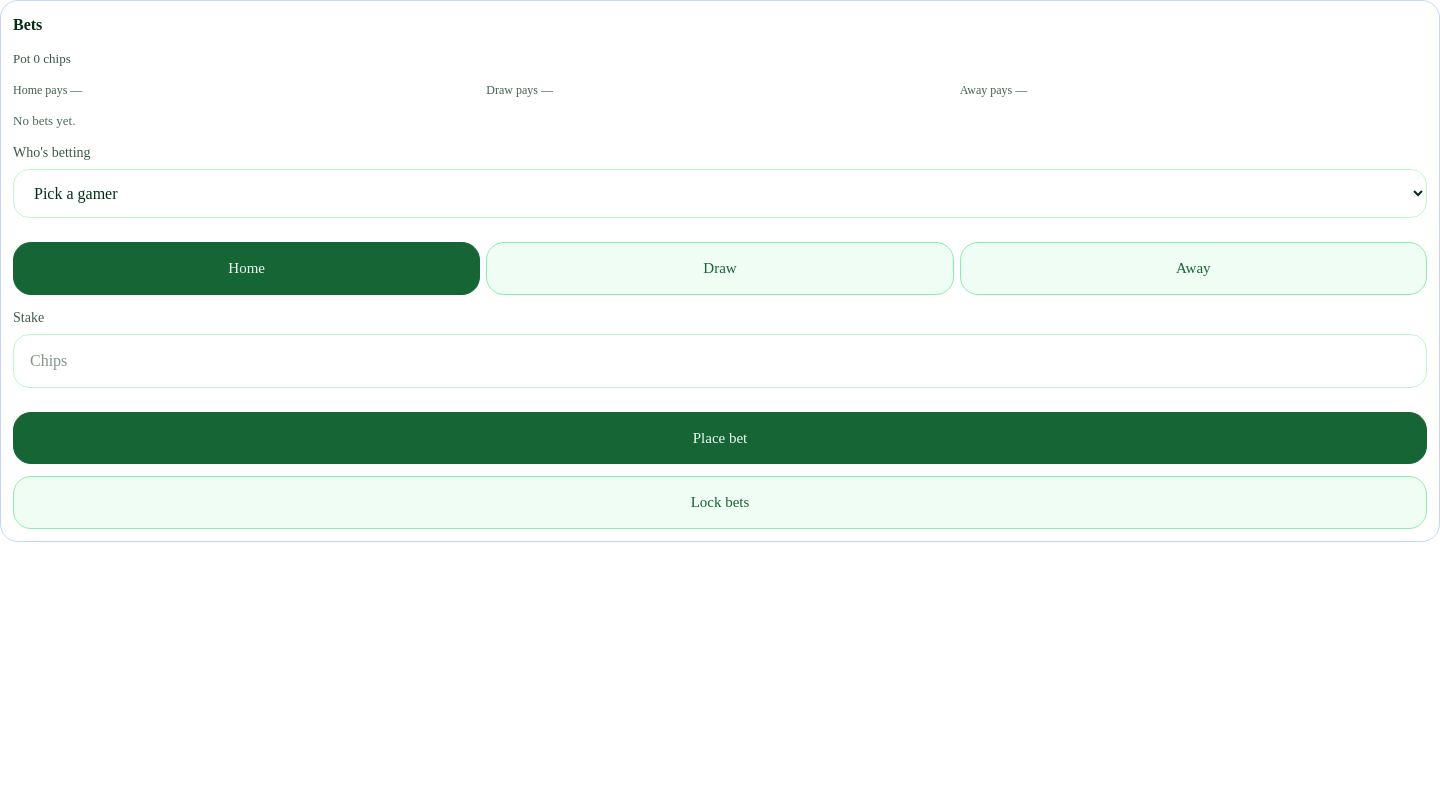
Test: BetsPanel › asks before placing a stake far larger than the game has seen
Select "Cy" in the dropdown labelled "Who's betting" at (720, 194), box x1=13 y1=169 x2=1427 y2=218
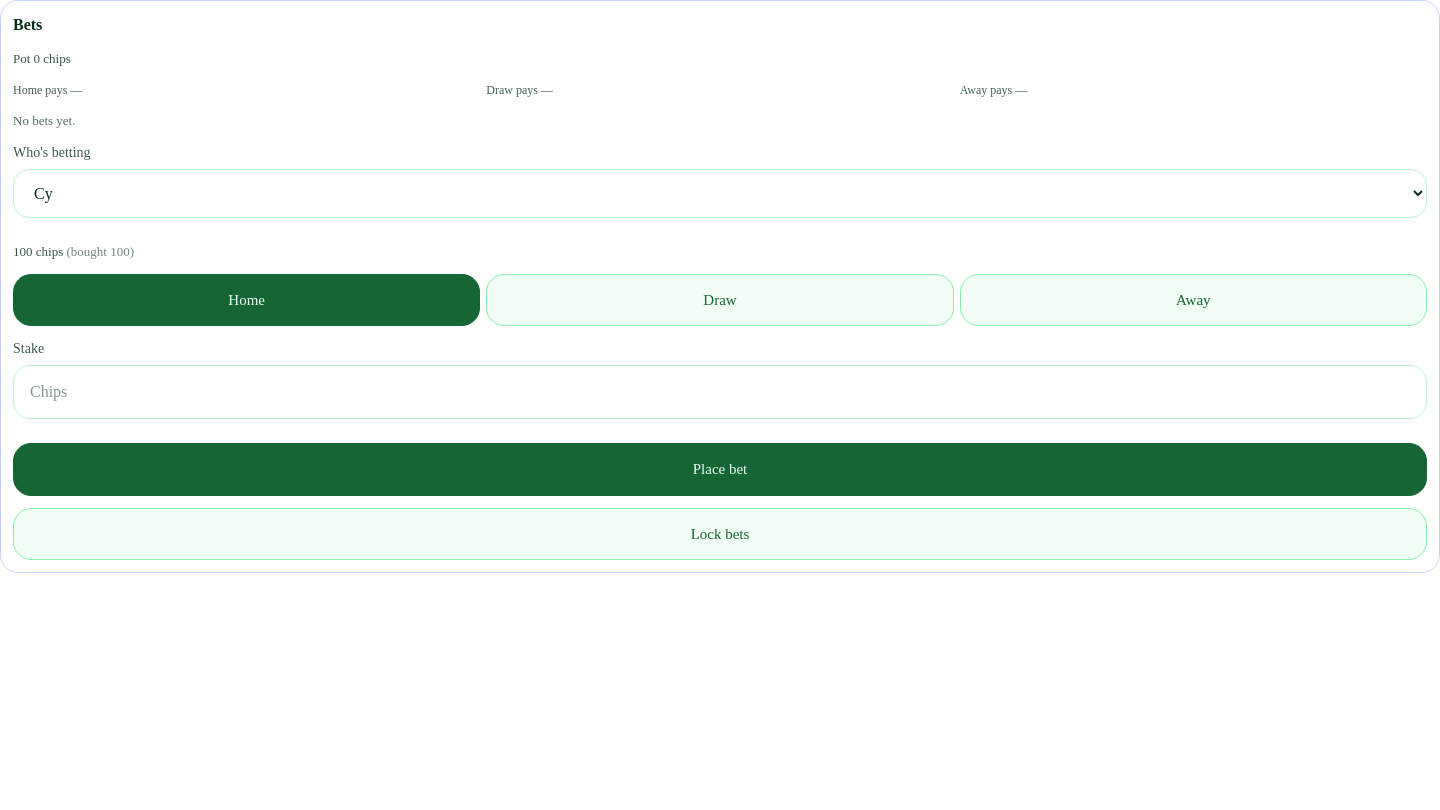
Click the button "Draw" at (720, 300), box x1=486 y1=274 x2=954 y2=326
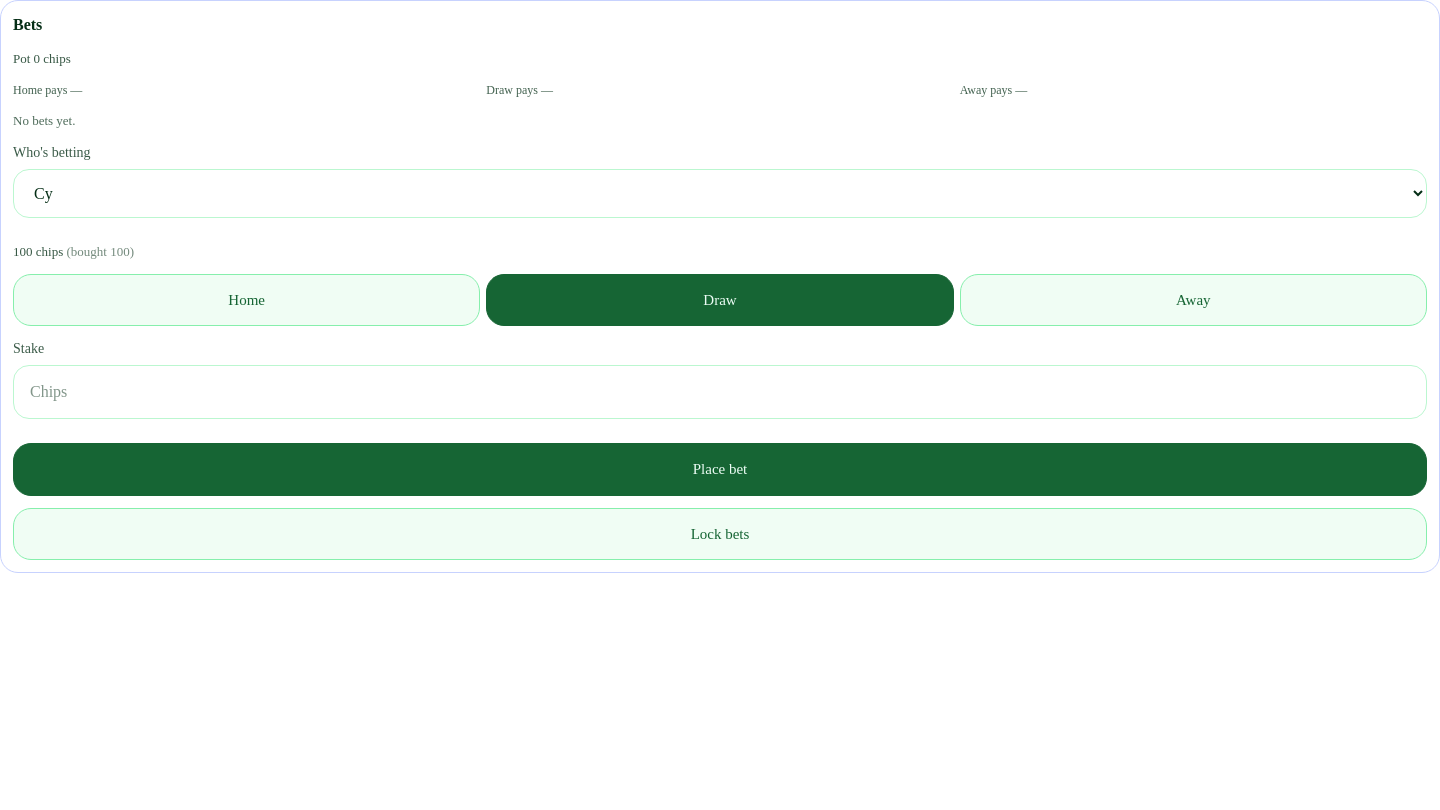
Type "5000" into the field labelled "Stake" at (720, 392), box x1=13 y1=365 x2=1427 y2=419
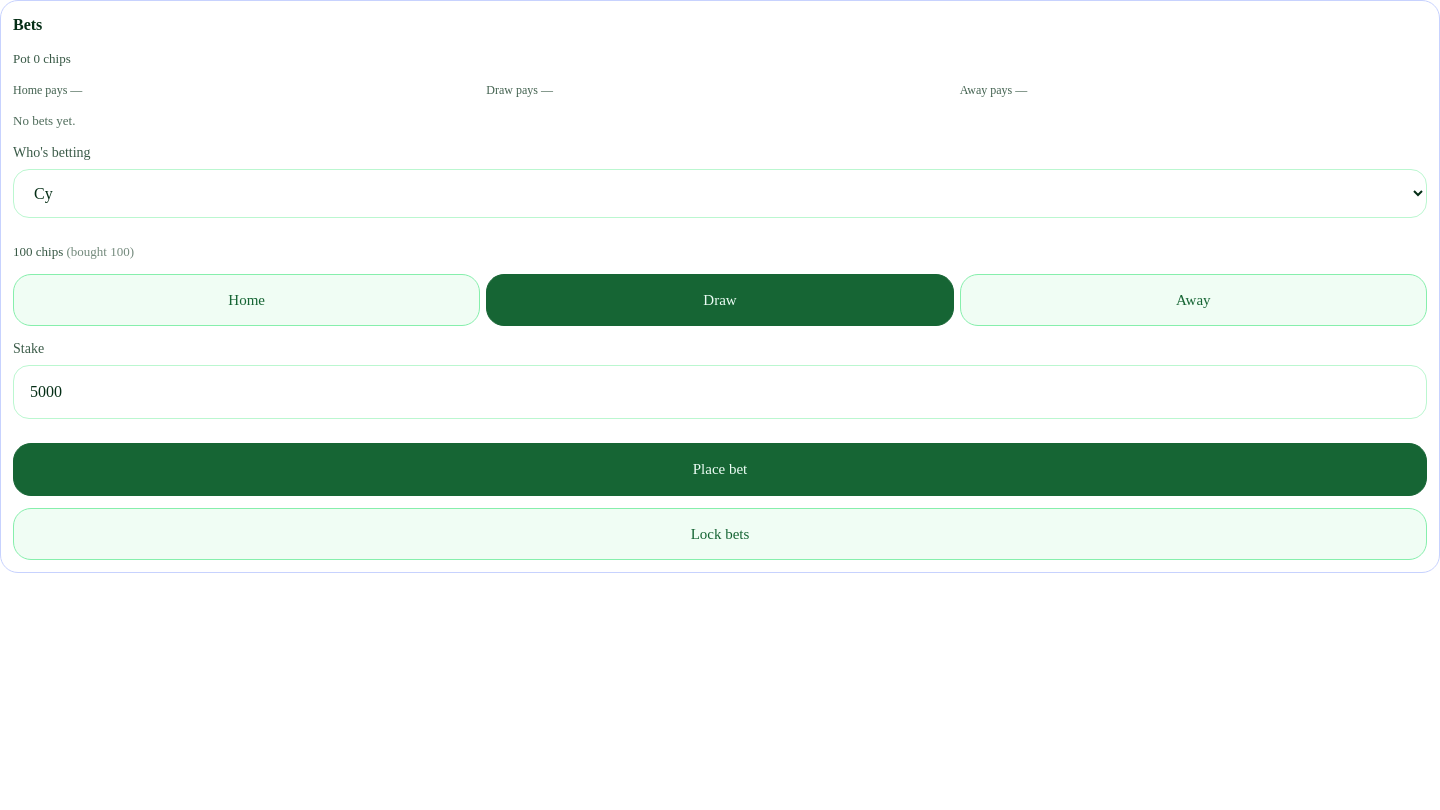
Click the button "Place bet" at (720, 469), box x1=13 y1=443 x2=1427 y2=496
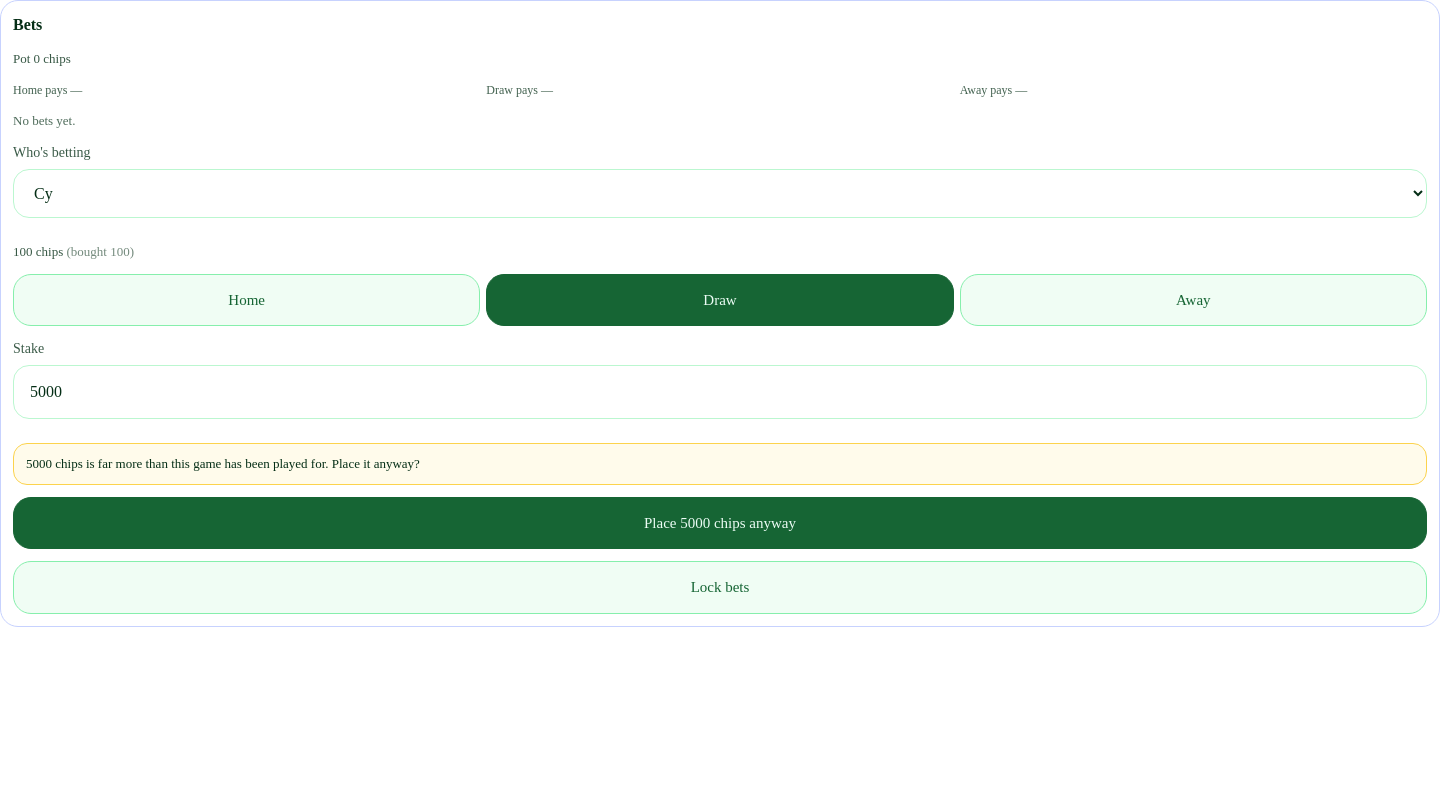
expect the text "5000 chips is far more than this game has been played for" is shown: met, box x1=26 y1=456 x2=420 y2=471
